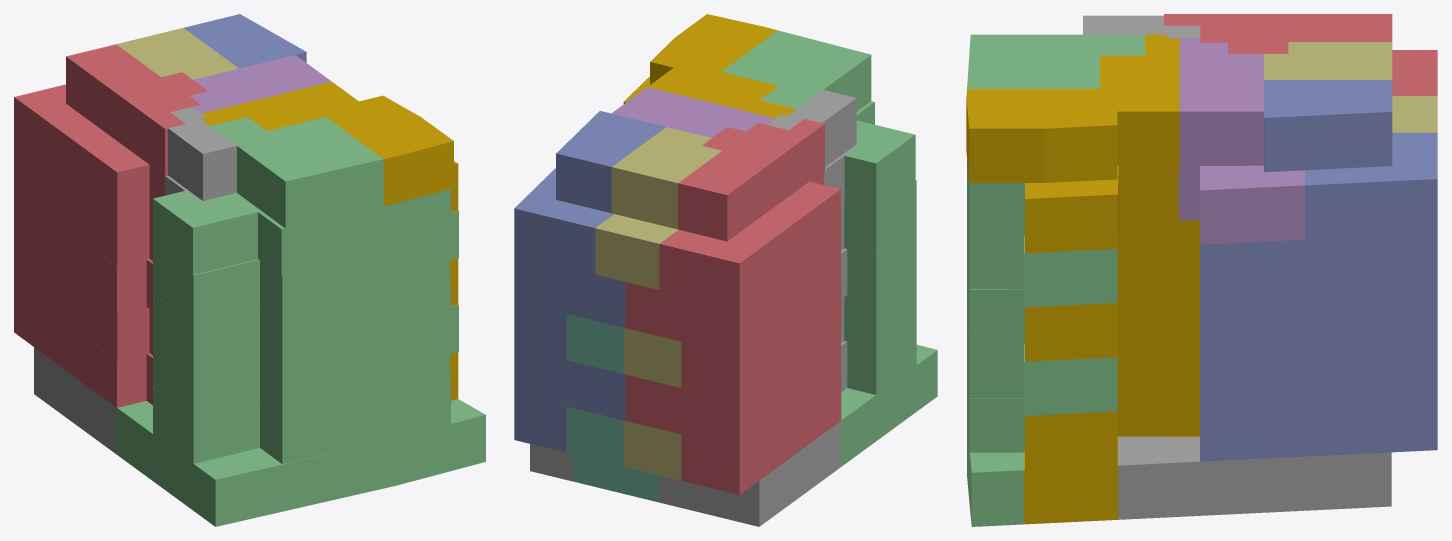
Rendered from house.glb.
The picture shows the model from 3 angles, left to right: view 1: azimuth 30°, elevation 25°; view 2: azimuth 150°, elevation 25°; view 3: azimuth 270°, elevation 25°; orthographic projection. The views are drawn at different scales.
Parts seen in each view (by area): view 1: Mesh_0_2, Mesh_5_6, Mesh_4_4, Mesh_2_4, Mesh_3_6, Mesh_1_6, Mesh_6_6, Mesh_6_5, Mesh_5_1, Mesh_6_1, Mesh_1_1, Mesh_3_1 (+7 smaller); view 2: Mesh_5_1, Mesh_6_1, Mesh_4_1, Mesh_2_1, Mesh_6_5, Mesh_1_1, Mesh_3_1, Mesh_6_6, Mesh_0_5, Mesh_6_2, Mesh_6_3, Mesh_5_3 (+20 smaller); view 3: Mesh_6_5, Mesh_0_4, Mesh_1_4, Mesh_4_2, Mesh_3_4, Mesh_2_2, Mesh_6_3, Mesh_5_3, Mesh_6_4, Mesh_5_5, Mesh_3_5, Mesh_1_5 (+16 smaller).
Part boxes in pixels (x1,y1,x2,y2): Mesh_0_2: [116, 399, 485, 526]; Mesh_5_6: [153, 189, 450, 276]; Mesh_4_4: [153, 210, 458, 322]; Mesh_2_4: [153, 304, 458, 416]; Mesh_3_6: [153, 282, 450, 369]; Mesh_1_6: [153, 376, 450, 463]; Mesh_6_6: [210, 117, 383, 228]; Mesh_6_5: [201, 81, 453, 205]; Mesh_5_1: [14, 84, 164, 219]; Mesh_6_1: [66, 44, 207, 175]; Mesh_1_1: [14, 285, 152, 407]; Mesh_3_1: [14, 191, 152, 313]; Mesh_5_1: [659, 171, 840, 309]; Mesh_6_1: [678, 119, 824, 241]; Mesh_4_1: [625, 236, 840, 355]; Mesh_2_1: [625, 328, 840, 448]; Mesh_6_5: [647, 14, 796, 118]; Mesh_1_1: [681, 374, 841, 494]; Mesh_3_1: [681, 282, 841, 402]; Mesh_6_6: [721, 30, 871, 111]; Mesh_0_5: [659, 421, 840, 526]; Mesh_6_2: [611, 127, 721, 229]; Mesh_6_3: [556, 111, 665, 213]; Mesh_5_3: [514, 168, 613, 274]; Mesh_6_5: [966, 34, 1179, 182]; Mesh_0_4: [1118, 436, 1391, 519]; Mesh_1_4: [1200, 396, 1437, 461]; Mesh_4_2: [1200, 233, 1437, 298]; Mesh_3_4: [1200, 287, 1437, 353]; Mesh_2_2: [1200, 341, 1437, 407]; Mesh_6_3: [1264, 80, 1392, 172]; Mesh_5_3: [1263, 132, 1437, 239]; Mesh_6_4: [1179, 38, 1263, 165]; Mesh_5_5: [1025, 166, 1178, 253]; Mesh_3_5: [1025, 274, 1199, 361]; Mesh_1_5: [1025, 382, 1199, 470].
Bounding box in the file's own units: 0.0192 × 0.0224 × 0.0252.
